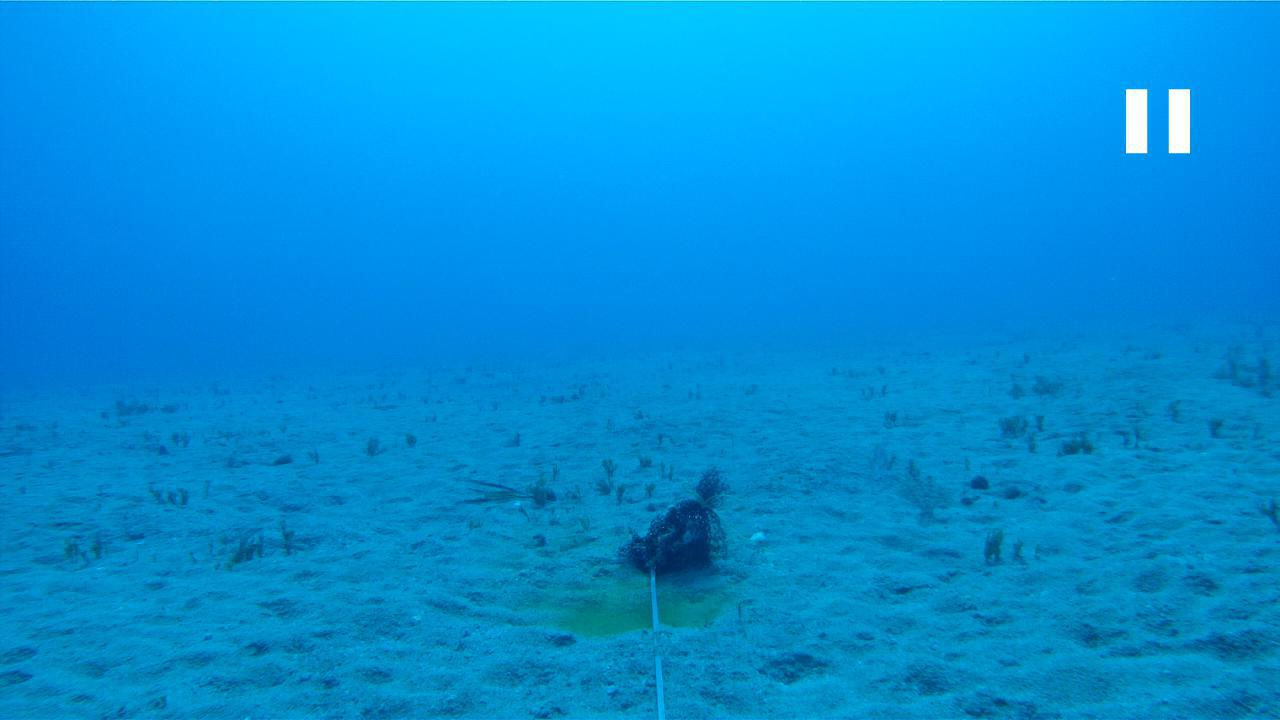bothus: (892, 465, 956, 524)
